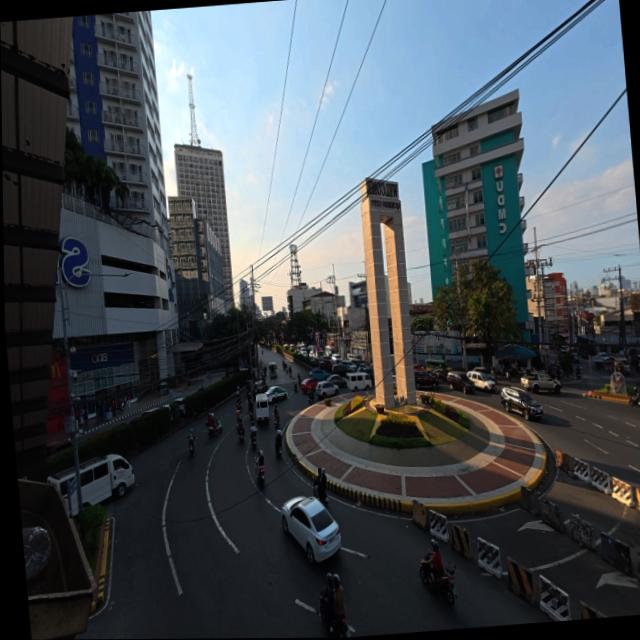car: (278, 492, 341, 566), (496, 385, 543, 425), (294, 368, 333, 396), (463, 368, 497, 394), (412, 368, 440, 391), (266, 385, 288, 402)
motorcycle: (419, 549, 458, 607)
trucks: (524, 369, 561, 394)
